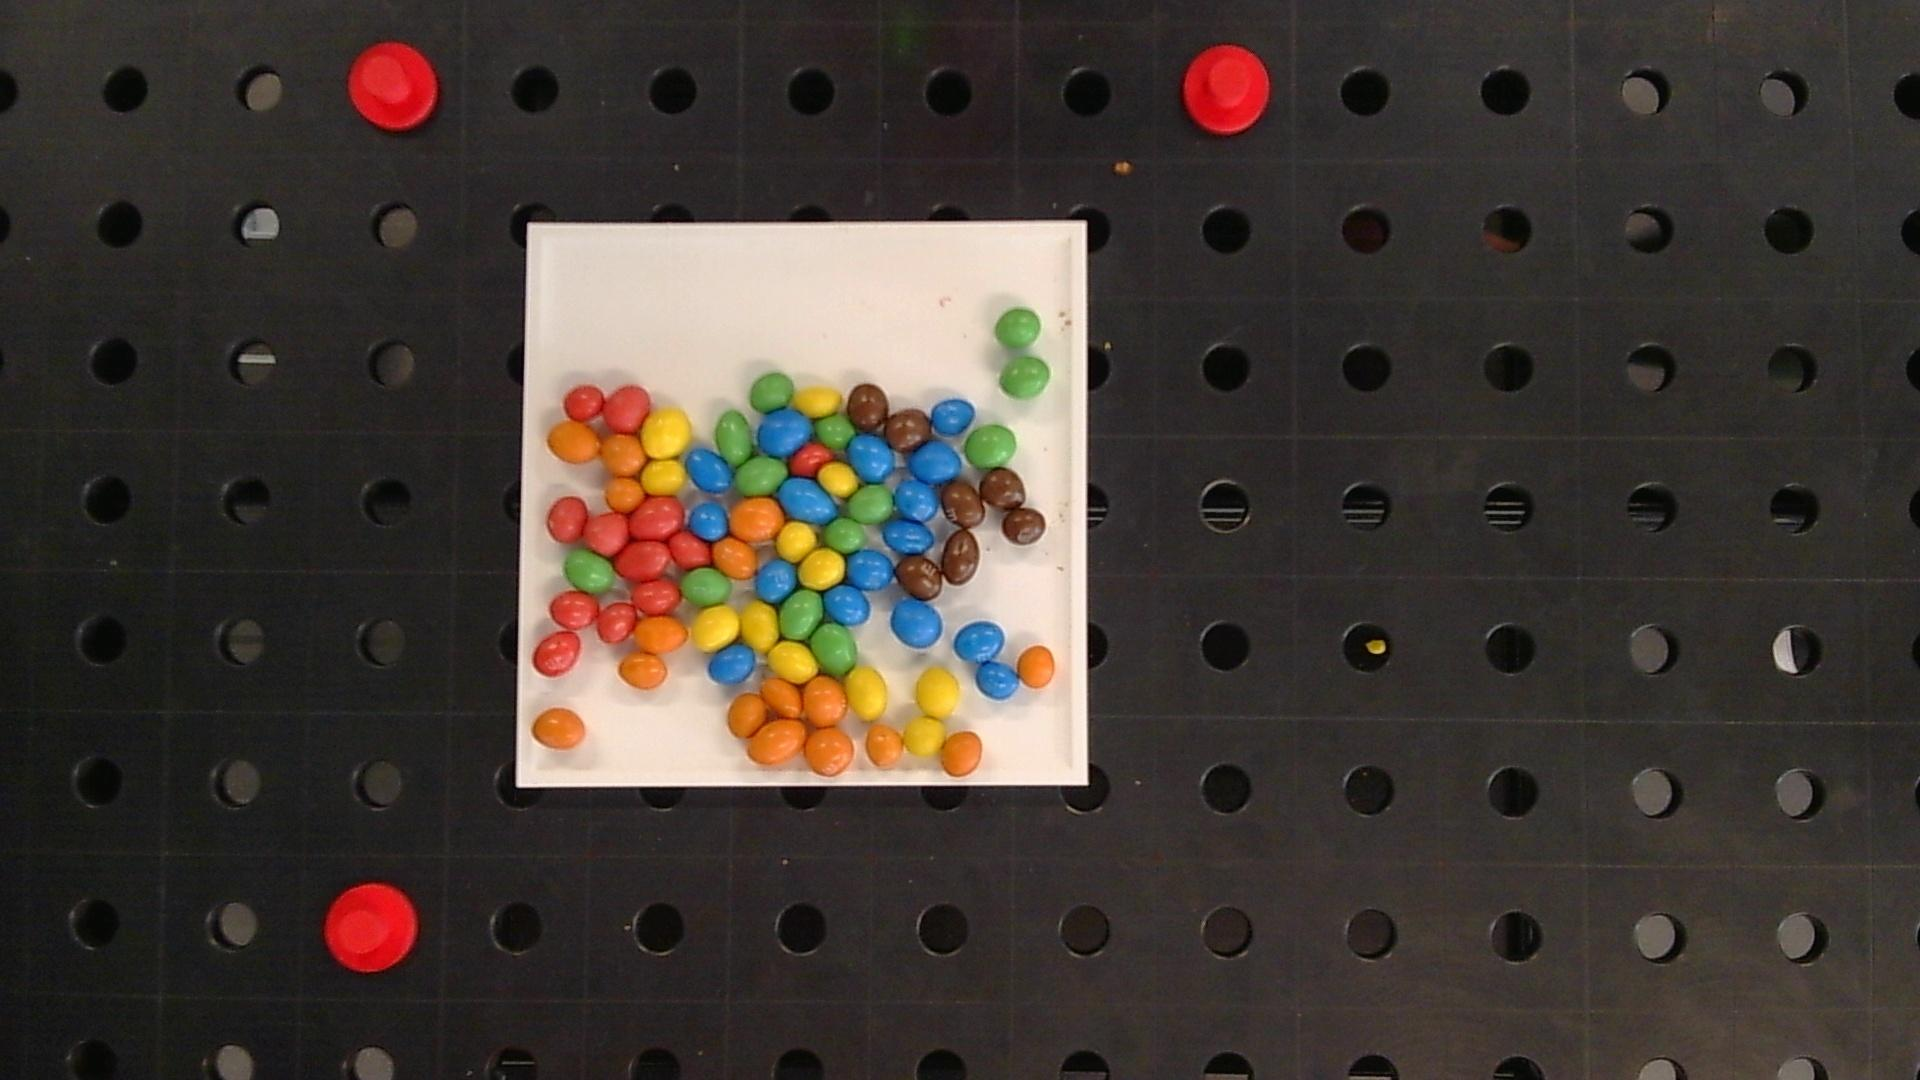blue: (779, 476, 839, 524), (890, 599, 943, 647), (758, 409, 812, 455), (906, 438, 963, 481), (848, 435, 894, 481), (686, 448, 732, 493), (955, 621, 1005, 662), (894, 479, 940, 522), (847, 550, 894, 591), (708, 645, 756, 683), (882, 518, 932, 554), (756, 559, 798, 601), (825, 585, 870, 625), (977, 662, 1021, 699), (932, 398, 975, 434), (688, 502, 728, 539)
brown: (942, 530, 980, 584), (942, 481, 985, 527), (897, 556, 942, 600), (885, 409, 931, 451), (847, 384, 887, 431), (980, 468, 1025, 509), (1002, 508, 1046, 545)
green: (812, 622, 857, 674), (1000, 356, 1051, 398), (563, 550, 615, 592), (967, 425, 1017, 467), (779, 591, 823, 638), (736, 455, 787, 495), (715, 411, 753, 463), (994, 307, 1042, 348), (680, 568, 732, 605), (750, 372, 794, 411), (848, 485, 894, 522), (824, 517, 865, 551), (815, 414, 855, 447)
orange: (748, 719, 806, 764), (804, 728, 855, 775), (731, 498, 783, 541), (531, 708, 585, 749), (547, 422, 600, 463), (803, 678, 847, 725), (634, 616, 688, 651), (713, 537, 757, 579), (942, 732, 982, 777), (600, 434, 645, 475), (618, 653, 667, 690), (728, 692, 766, 736), (864, 725, 903, 766), (1017, 645, 1055, 687), (762, 678, 802, 716), (605, 477, 644, 510)
red: (533, 632, 582, 675), (632, 497, 683, 538), (617, 541, 670, 580), (604, 385, 650, 430), (585, 512, 629, 554), (547, 497, 587, 542), (550, 591, 597, 628), (632, 579, 679, 613), (596, 603, 637, 642), (670, 531, 711, 567), (563, 385, 604, 419), (790, 443, 833, 475)
yellow: (642, 410, 691, 458), (915, 667, 960, 717), (691, 605, 740, 650), (847, 667, 887, 720), (769, 642, 818, 682), (799, 549, 845, 589), (741, 603, 778, 649), (777, 522, 818, 560), (903, 717, 944, 754), (642, 460, 684, 495), (820, 463, 860, 497), (794, 388, 841, 415)
